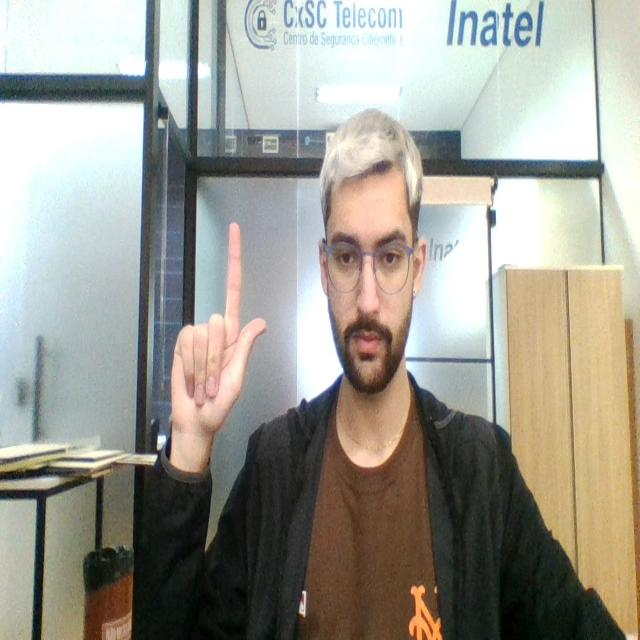G: (168, 215, 267, 432)
